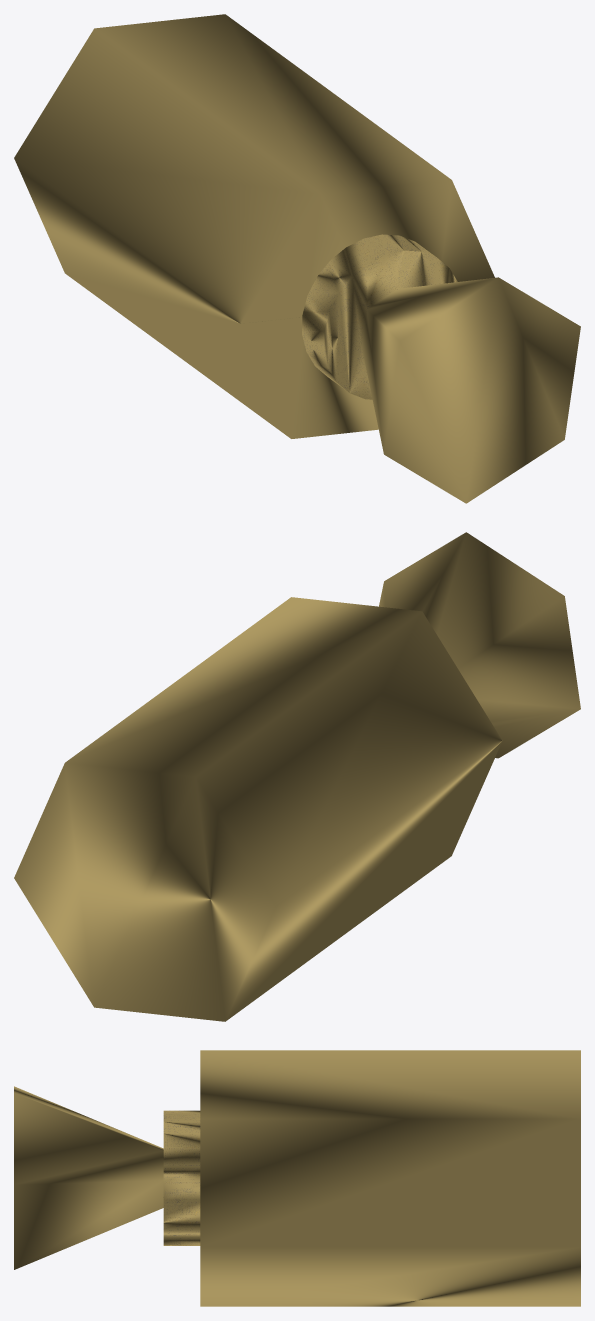
File: model_align.obj
The picture shows the model from 3 angles, top to bottom: view 1: azimuth 30°, elevation 25°; view 2: azimuth 150°, elevation 25°; view 3: azimuth 270°, elevation 25°; orthographic projection. The views are drawn at different scales.
Size of the model in its own units: 0.1006 by 0.0936 by 0.2242.
